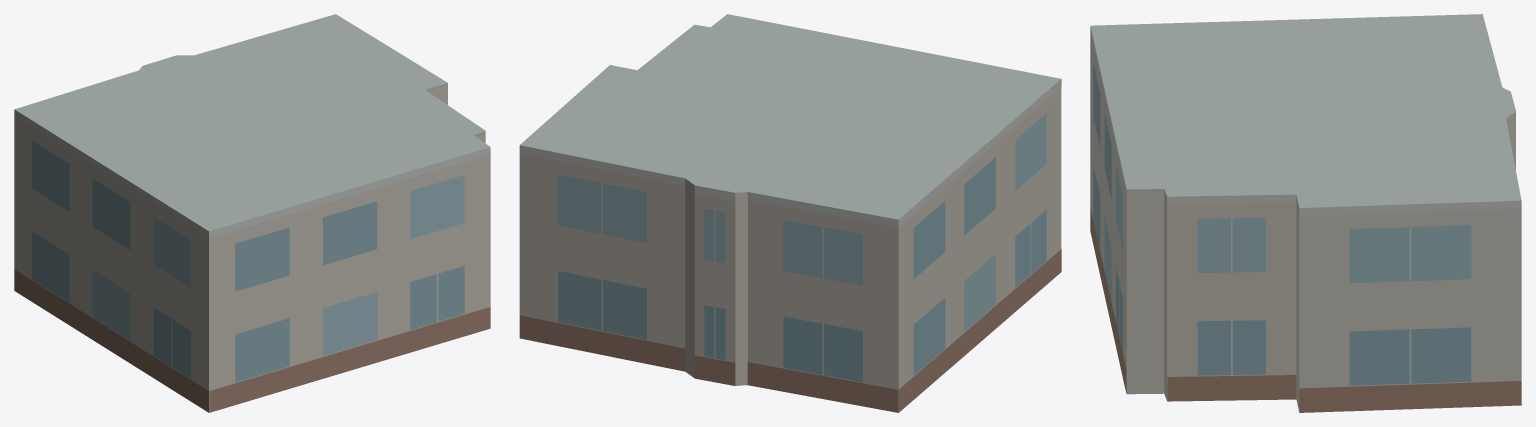
File: survey-upis-32621799.glb
3 renders of one model, left to right at view 1: azimuth 30°, elevation 25°; view 2: azimuth 150°, elevation 25°; view 3: azimuth 270°, elevation 25°, orthographic. The views are drawn at different scales.
Parts seen in each view (by area): view 1: survey-upis-32621799.tmp; view 2: survey-upis-32621799.tmp; view 3: survey-upis-32621799.tmp.
Boxes of the visible parts, x1=… form: survey-upis-32621799.tmp: x1=14, y1=14, x2=490, y2=412; survey-upis-32621799.tmp: x1=519, y1=14, x2=1061, y2=412; survey-upis-32621799.tmp: x1=1090, y1=14, x2=1521, y2=412.
Size of the model in its own units: 12.4 by 6.1 by 11.65.
